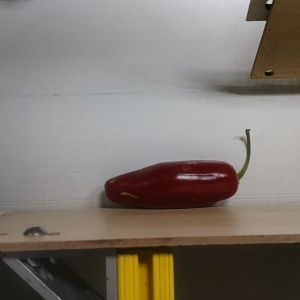Cut Point: (219, 161, 246, 199)
